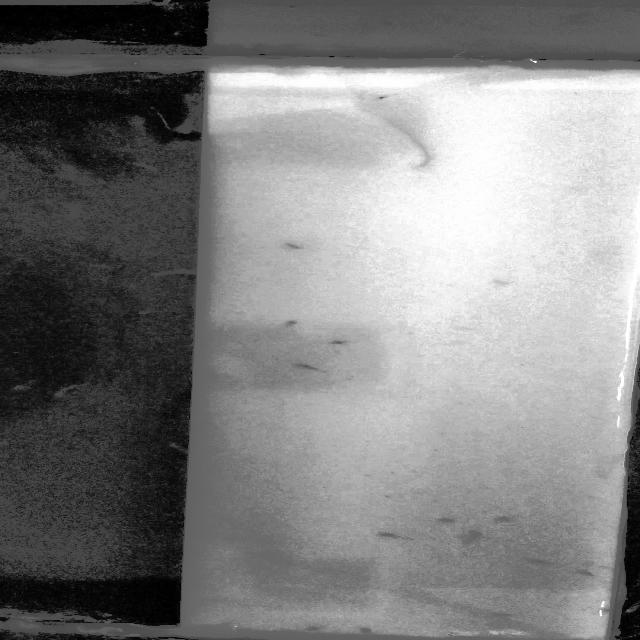shrimp: (288, 360, 326, 378), (520, 552, 557, 570), (375, 530, 407, 546), (461, 525, 486, 544), (316, 337, 359, 348), (363, 92, 402, 104), (346, 619, 380, 632), (498, 509, 519, 525), (581, 570, 606, 582), (436, 512, 460, 523)
